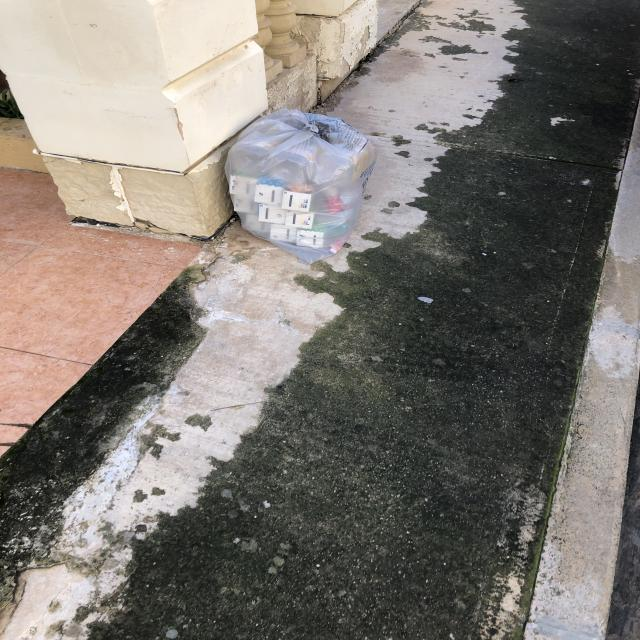Organic Waste -White Bag-: (229, 112, 372, 266)
